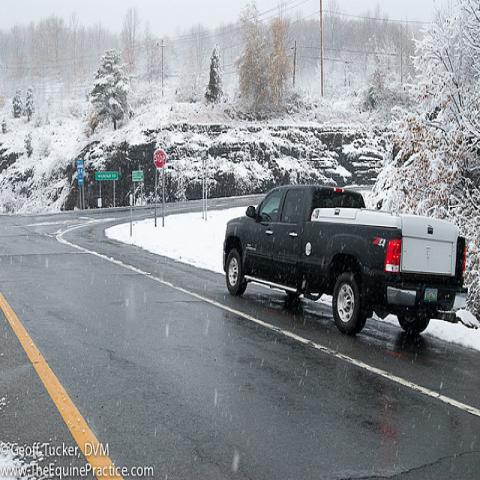truck: (222, 187, 461, 336)
